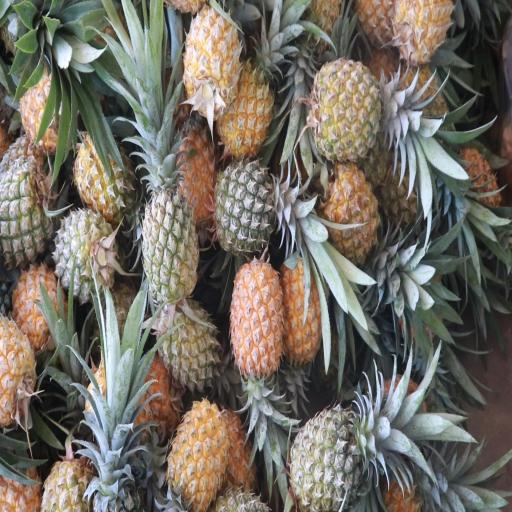------------------------------: (141, 145, 199, 296), (314, 54, 385, 158), (153, 293, 220, 393), (68, 121, 131, 217), (9, 265, 62, 362)
Pineapple - v8 v1: (160, 408, 229, 512), (229, 259, 284, 383), (180, 0, 239, 110), (218, 45, 274, 155), (280, 252, 331, 368), (327, 158, 386, 258), (166, 113, 217, 225), (394, 0, 454, 61)
